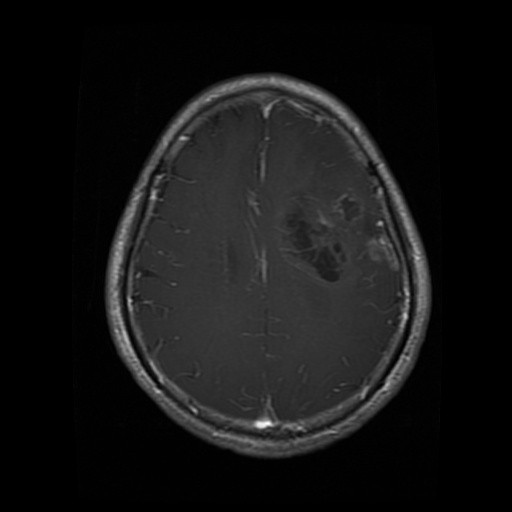glioma: (274, 190, 401, 283)
